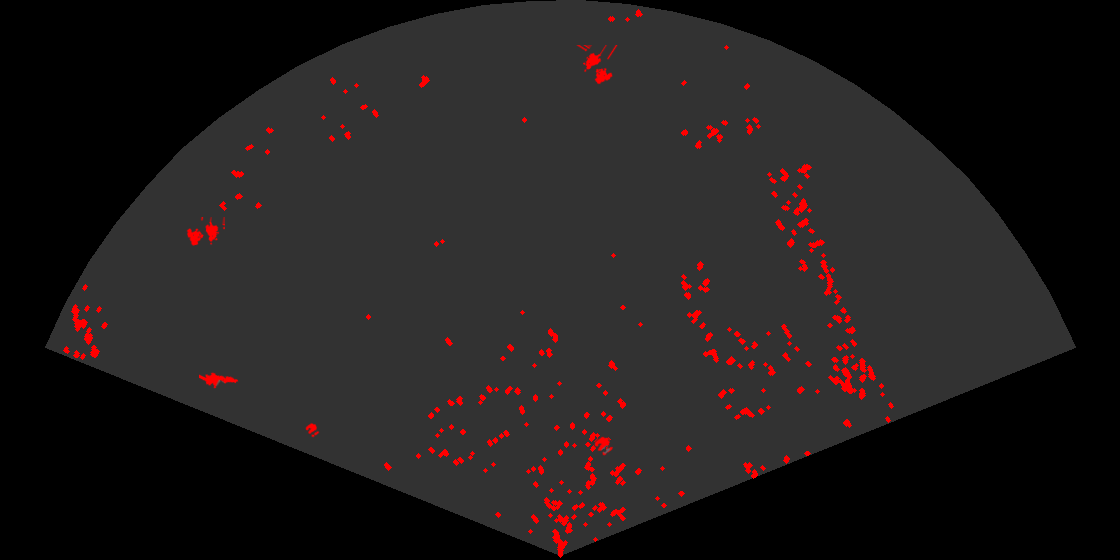ball: (593, 435, 615, 457), (304, 421, 321, 439)
cage: (575, 45, 619, 86), (185, 217, 225, 247)
frogman: (199, 371, 239, 390)
